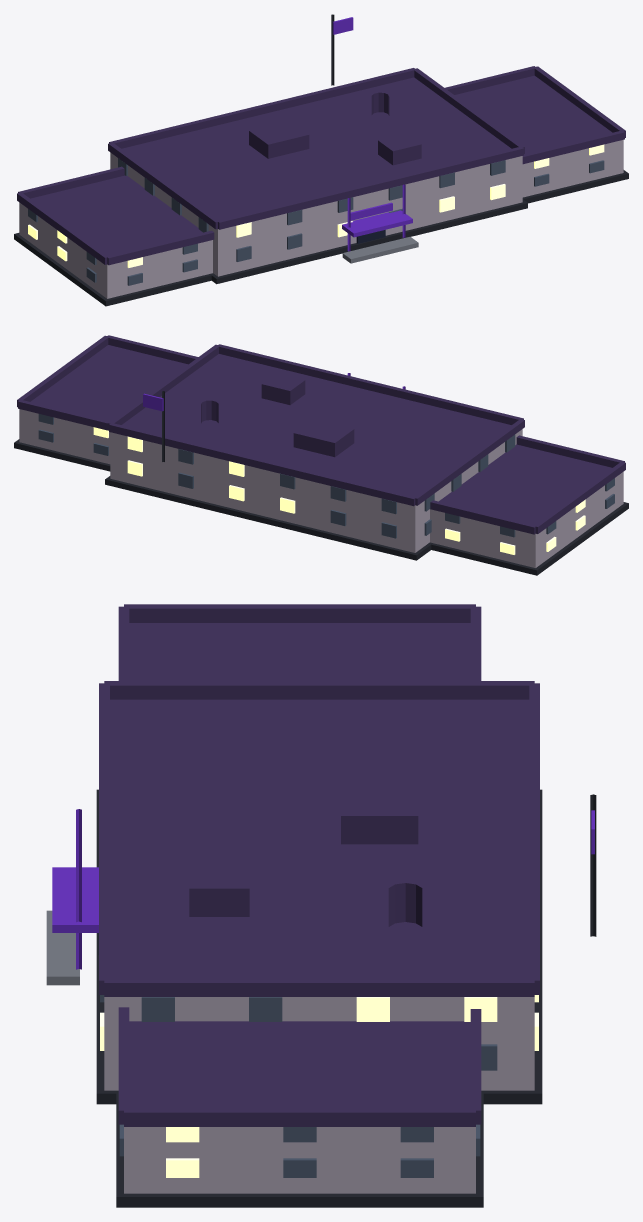
The model's file is sac-high.glb.
The picture shows the model from 3 angles, top to bottom: view 1: azimuth 30°, elevation 25°; view 2: azimuth 150°, elevation 25°; view 3: azimuth 270°, elevation 25°; orthographic projection. The views are drawn at different scales.
Size of the model in its own units: 124 by 27 by 56.2.
